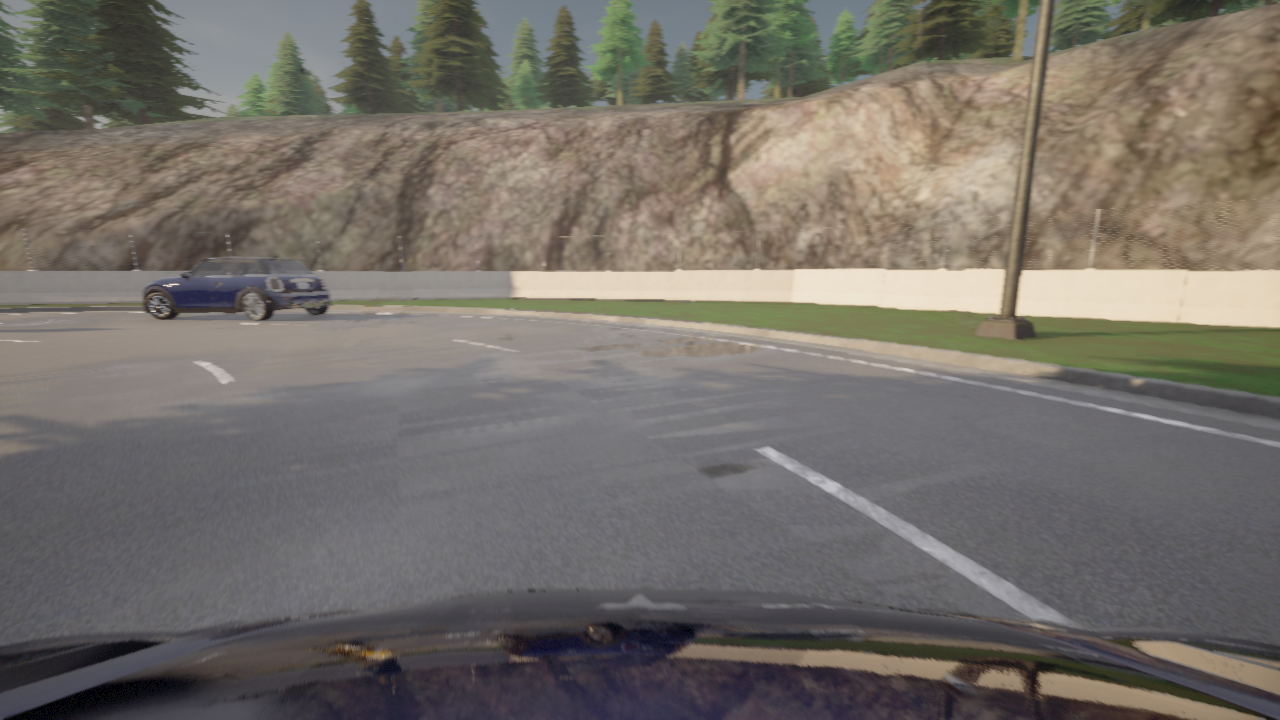cyclist: (0, 588, 1279, 719), (142, 256, 331, 320)
